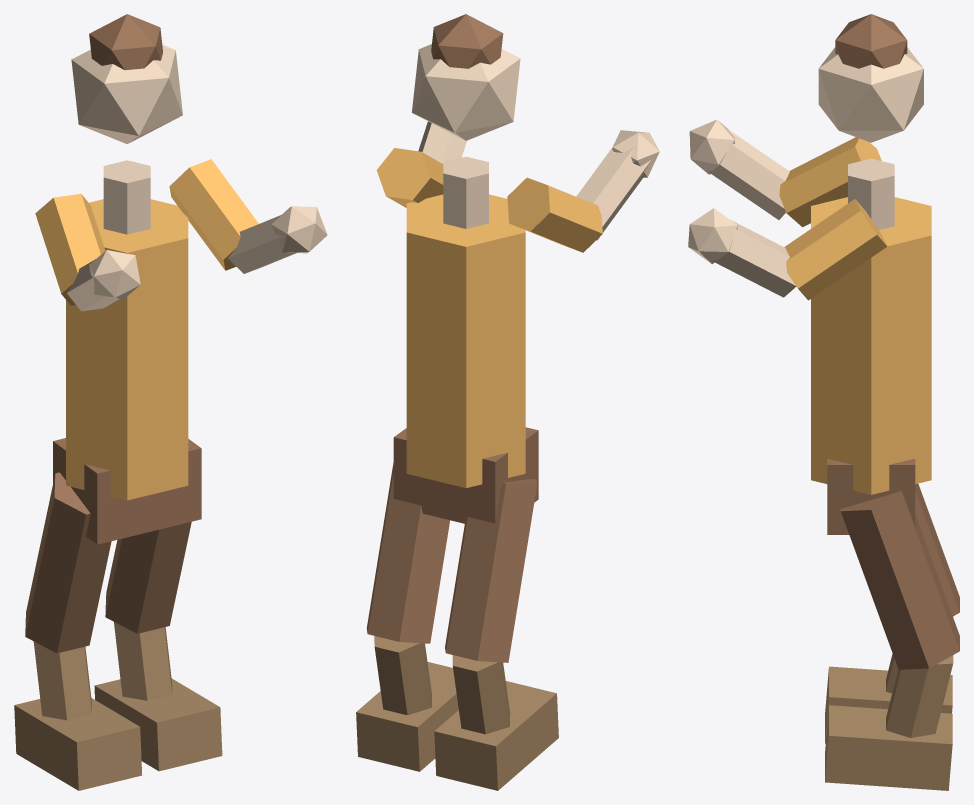
File: pose_dodge_roll_03.glb
3 renders of one model, left to right at view 1: azimuth 30°, elevation 25°; view 2: azimuth 150°, elevation 25°; view 3: azimuth 270°, elevation 25°, orthographic. The views are drawn at different scales.
Parts seen in each view (by area): view 1: pose; view 2: pose; view 3: pose.
Boxes of the visible parts, box(x1,y1,x2,y2) form: pose: box(14, 14, 327, 790); pose: box(356, 14, 659, 790); pose: box(688, 14, 959, 790).
Size of the model in its own units: 0.5062 by 1.58 by 0.5257.
